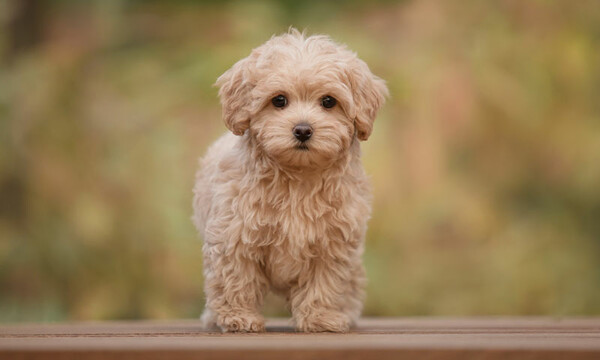dog: (168, 16, 400, 343)
